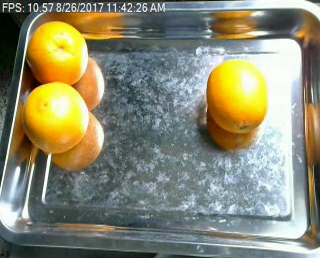Orange: (207, 58, 269, 134), (23, 82, 90, 151), (26, 21, 89, 86)
